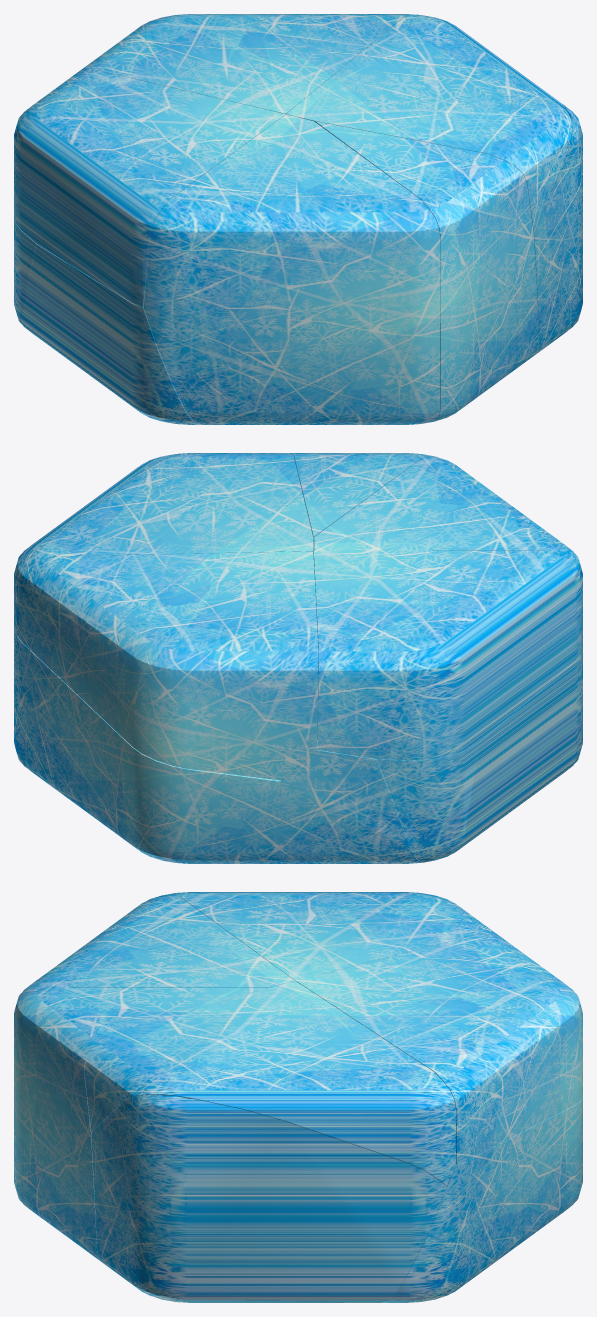
File: broken shelf2 (1).fbx
The picture shows the model from 3 angles, top to bottom: view 1: azimuth 30°, elevation 25°; view 2: azimuth 150°, elevation 25°; view 3: azimuth 270°, elevation 25°; orthographic projection.
Parts seen in each view (by area): view 1: Cylinder.036_cell.002, Cylinder.036_cell.005, Cylinder.036_cell.003, Cylinder.036_cell, Cylinder.036_cell.009, Cylinder.036_cell.001, Cylinder.036_cell.007, Cylinder.036_cell.004; view 2: Cylinder.036_cell.009, Cylinder.036_cell.005, Cylinder.036_cell.008, Cylinder.036_cell, Cylinder.036_cell.002, Cylinder.036_cell.006, Cylinder.036_cell.001, Cylinder.036_cell.004, Cylinder.036_cell.003; view 3: Cylinder.036_cell.007, Cylinder.036_cell, Cylinder.036_cell.009, Cylinder.036_cell.003, Cylinder.036_cell.008, Cylinder.036_cell.005, Cylinder.036_cell.002.
Part boxes in pixels (x1,y1,x2,y2): Cylinder.036_cell.002: [143, 114, 440, 424]; Cylinder.036_cell.005: [14, 71, 285, 307]; Cylinder.036_cell.003: [315, 121, 539, 421]; Cylinder.036_cell: [286, 14, 571, 232]; Cylinder.036_cell.009: [77, 14, 414, 114]; Cylinder.036_cell.001: [20, 244, 201, 424]; Cylinder.036_cell.007: [534, 104, 582, 355]; Cylinder.036_cell.004: [14, 215, 36, 323]; Cylinder.036_cell.009: [17, 551, 318, 780]; Cylinder.036_cell.005: [313, 551, 581, 760]; Cylinder.036_cell.008: [14, 636, 281, 863]; Cylinder.036_cell: [14, 453, 313, 647]; Cylinder.036_cell.002: [313, 456, 582, 677]; Cylinder.036_cell.006: [281, 741, 422, 863]; Cylinder.036_cell.001: [447, 654, 582, 856]; Cylinder.036_cell.004: [377, 742, 479, 862]; Cylinder.036_cell.003: [290, 453, 434, 541]; Cylinder.036_cell.007: [91, 1094, 446, 1302]; Cylinder.036_cell: [84, 981, 456, 1186]; Cylinder.036_cell.009: [296, 934, 582, 1164]; Cylinder.036_cell.003: [14, 987, 265, 1264]; Cylinder.036_cell.008: [381, 1096, 582, 1302]; Cylinder.036_cell.005: [168, 892, 499, 980]; Cylinder.036_cell.002: [15, 894, 294, 1007].
Bounding box in the file's own units: 174 × 80.57 × 194.
Materials: 1 (1 with a texture image).
